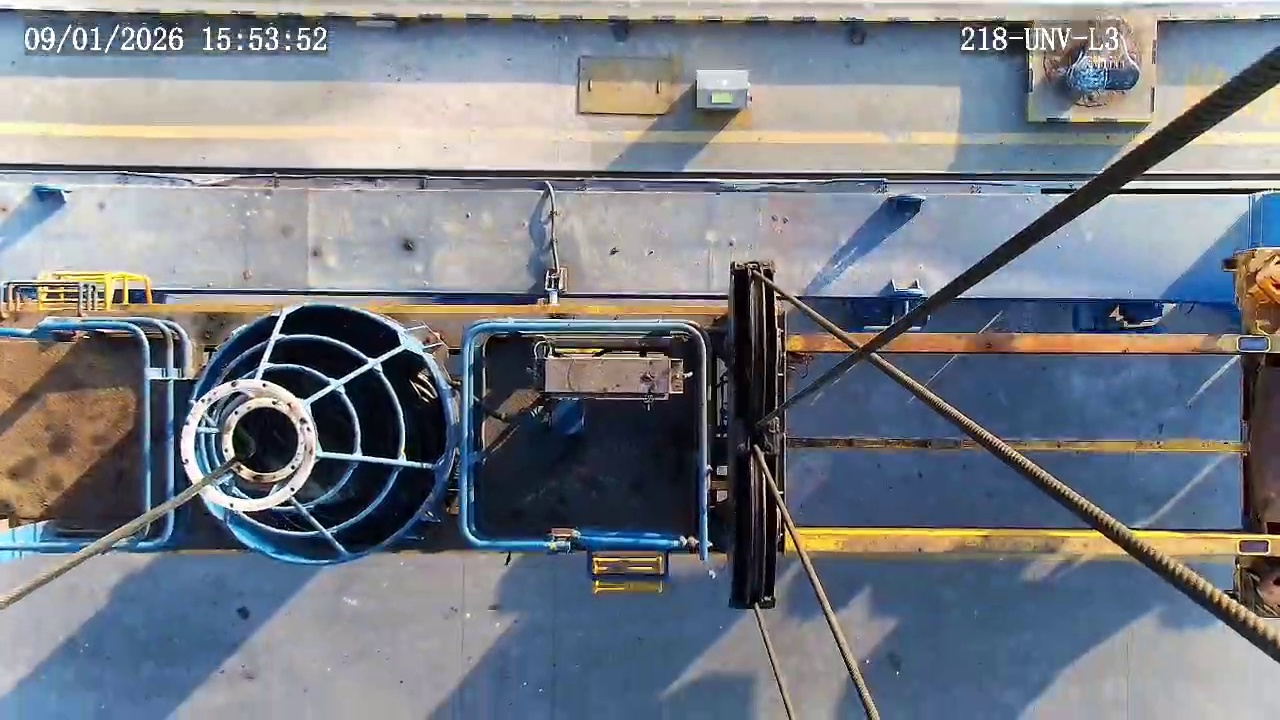right: (183, 302, 449, 564)
